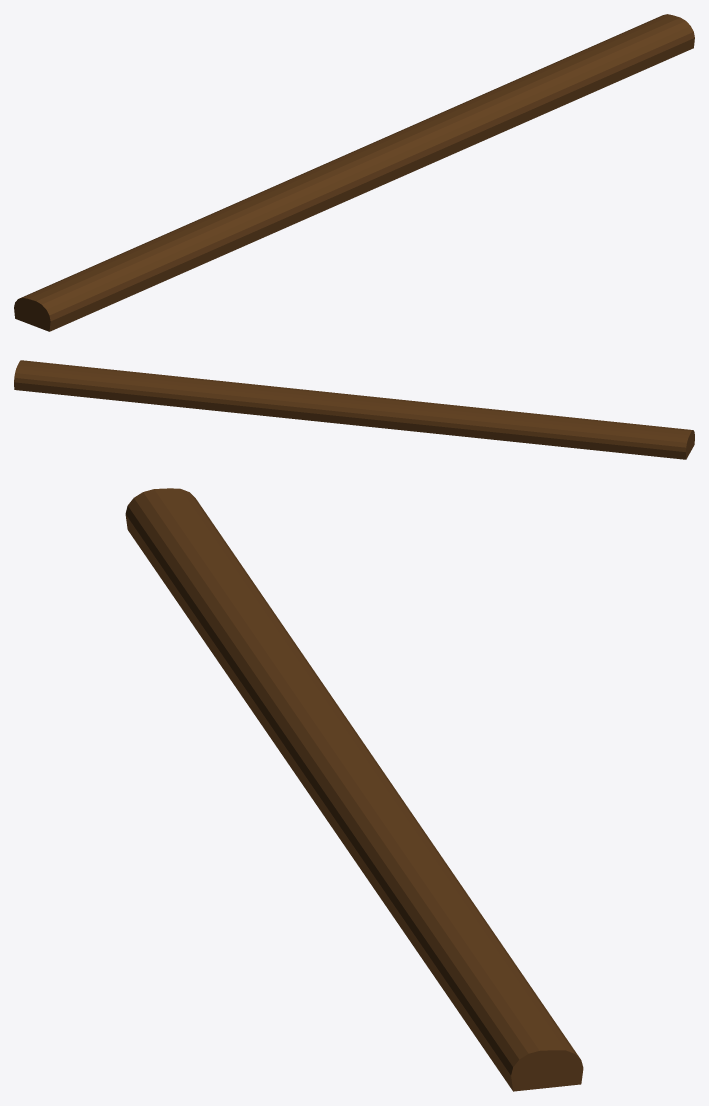
File: circle.181_lev3.glb
3 views of the same model, one above another, from view 1: azimuth 30°, elevation 25°; view 2: azimuth 150°, elevation 25°; view 3: azimuth 270°, elevation 25° (orthographic). The views are drawn at different scales.
Visible parts, largest first — view 1: circle.181_lev3; view 2: circle.181_lev3; view 3: circle.181_lev3.
Boxes of the visible parts, x1=… form: circle.181_lev3: x1=14, y1=14, x2=694, y2=331; circle.181_lev3: x1=14, y1=360, x2=694, y2=459; circle.181_lev3: x1=125, y1=488, x2=583, y2=1091.
Bounding box in the file's own units: 0.9325 × 0.0295 × 0.3163.
Materials: 1 (1 with a texture image).
